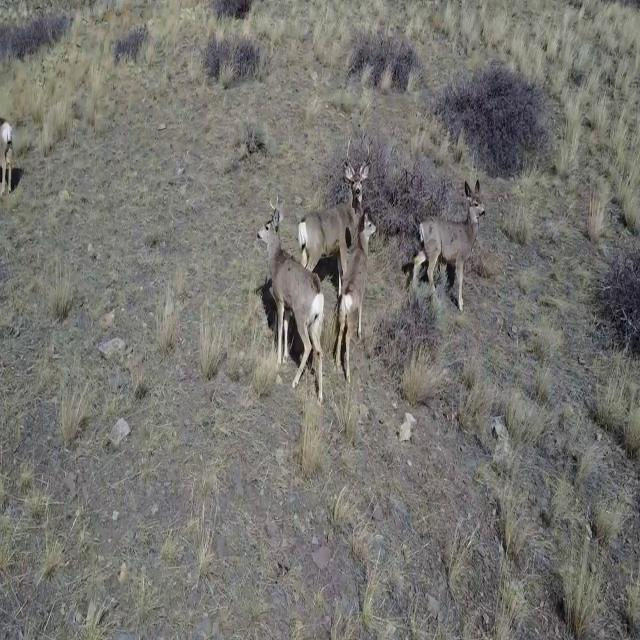Deer: (254, 194, 328, 406), (296, 138, 370, 276), (412, 178, 486, 311), (336, 215, 382, 380), (1, 114, 18, 194)
